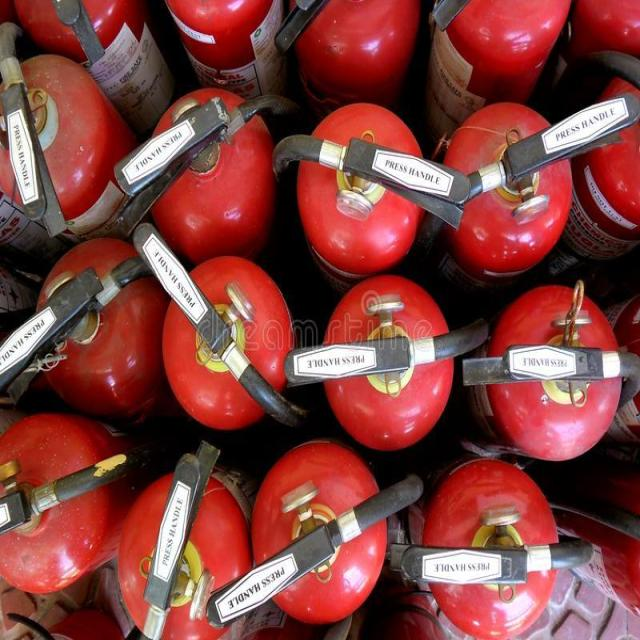fire_extinguisher: (419, 81, 639, 331), (108, 76, 331, 295), (262, 101, 478, 316), (204, 430, 426, 639), (122, 216, 310, 439), (5, 0, 206, 208), (278, 266, 494, 458), (0, 14, 156, 275), (406, 447, 603, 639), (451, 278, 638, 475), (0, 229, 181, 430), (105, 422, 272, 639), (271, 0, 429, 207), (0, 408, 172, 598), (160, 1, 310, 203), (420, 0, 576, 187), (542, 35, 640, 321)
